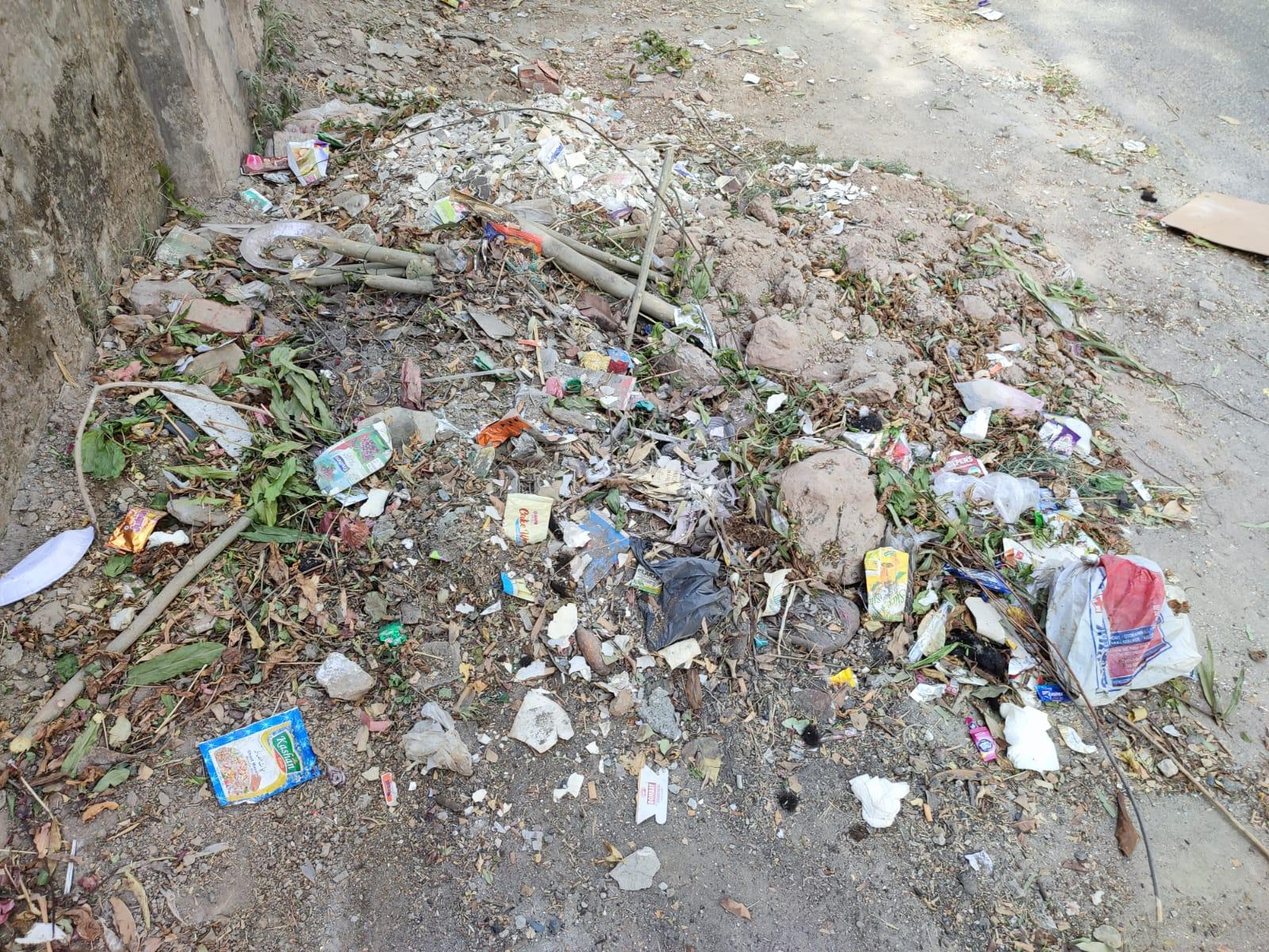garbage: (249, 54, 1224, 808)
